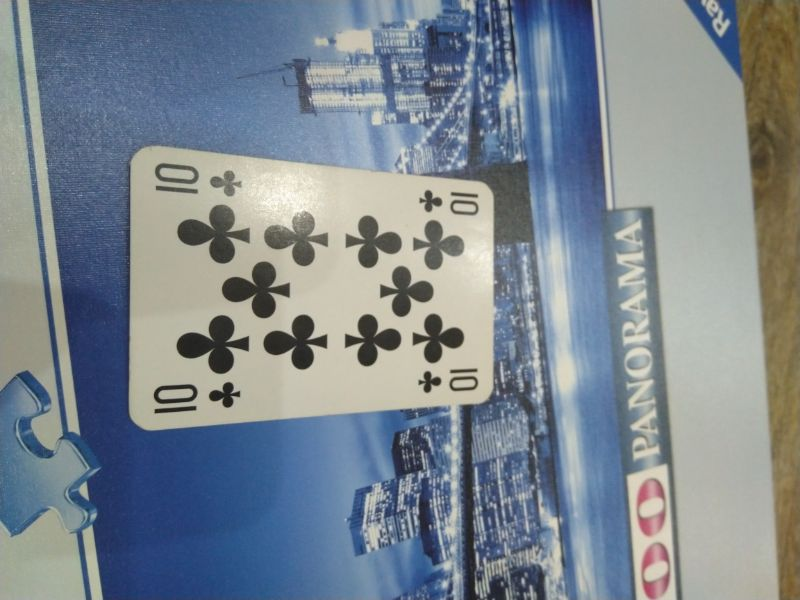Tc: (149, 161, 246, 201), (151, 380, 243, 413), (416, 185, 483, 220), (415, 366, 481, 394)
